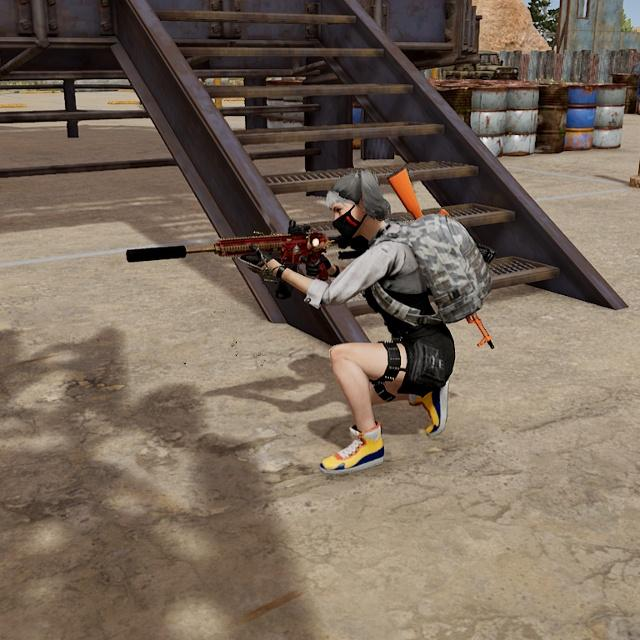head: (306, 164, 401, 252)
people: (254, 154, 488, 476)
